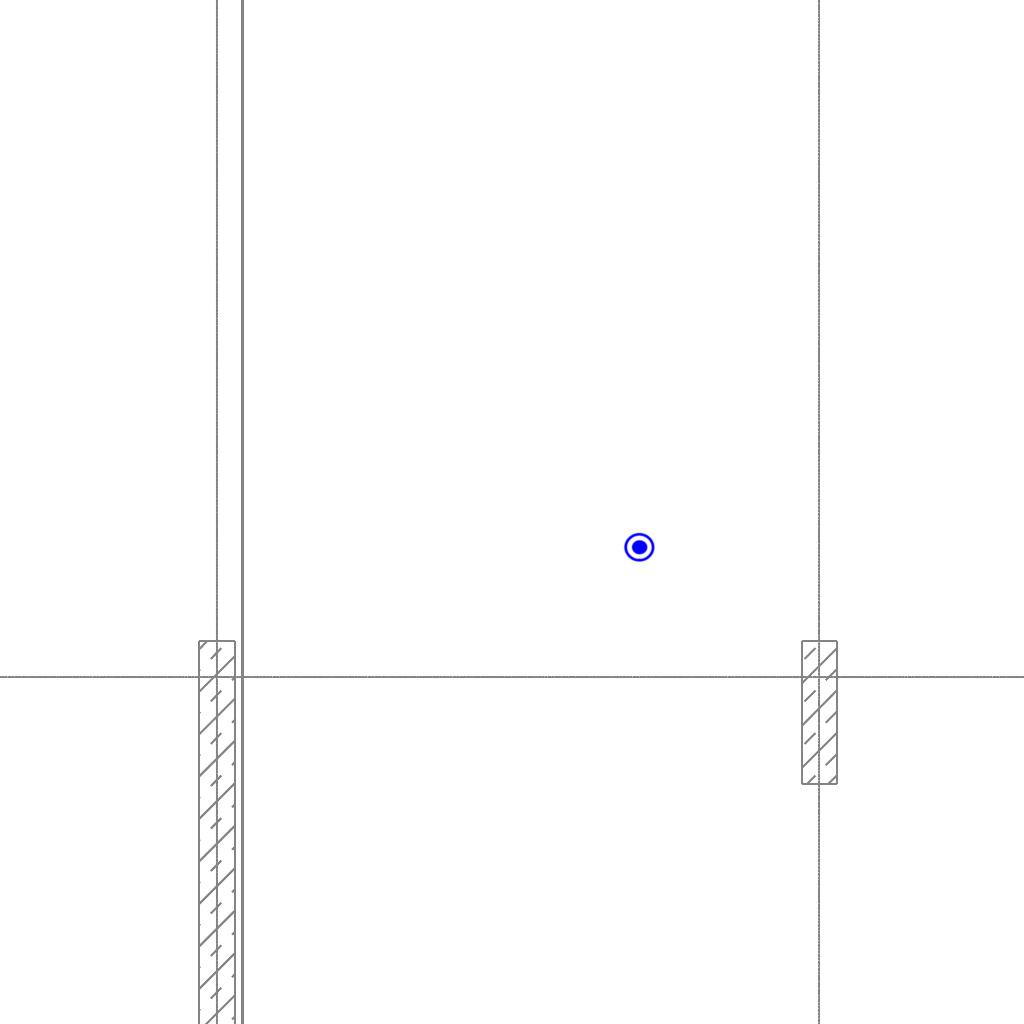Taster: (623, 532, 656, 565)
